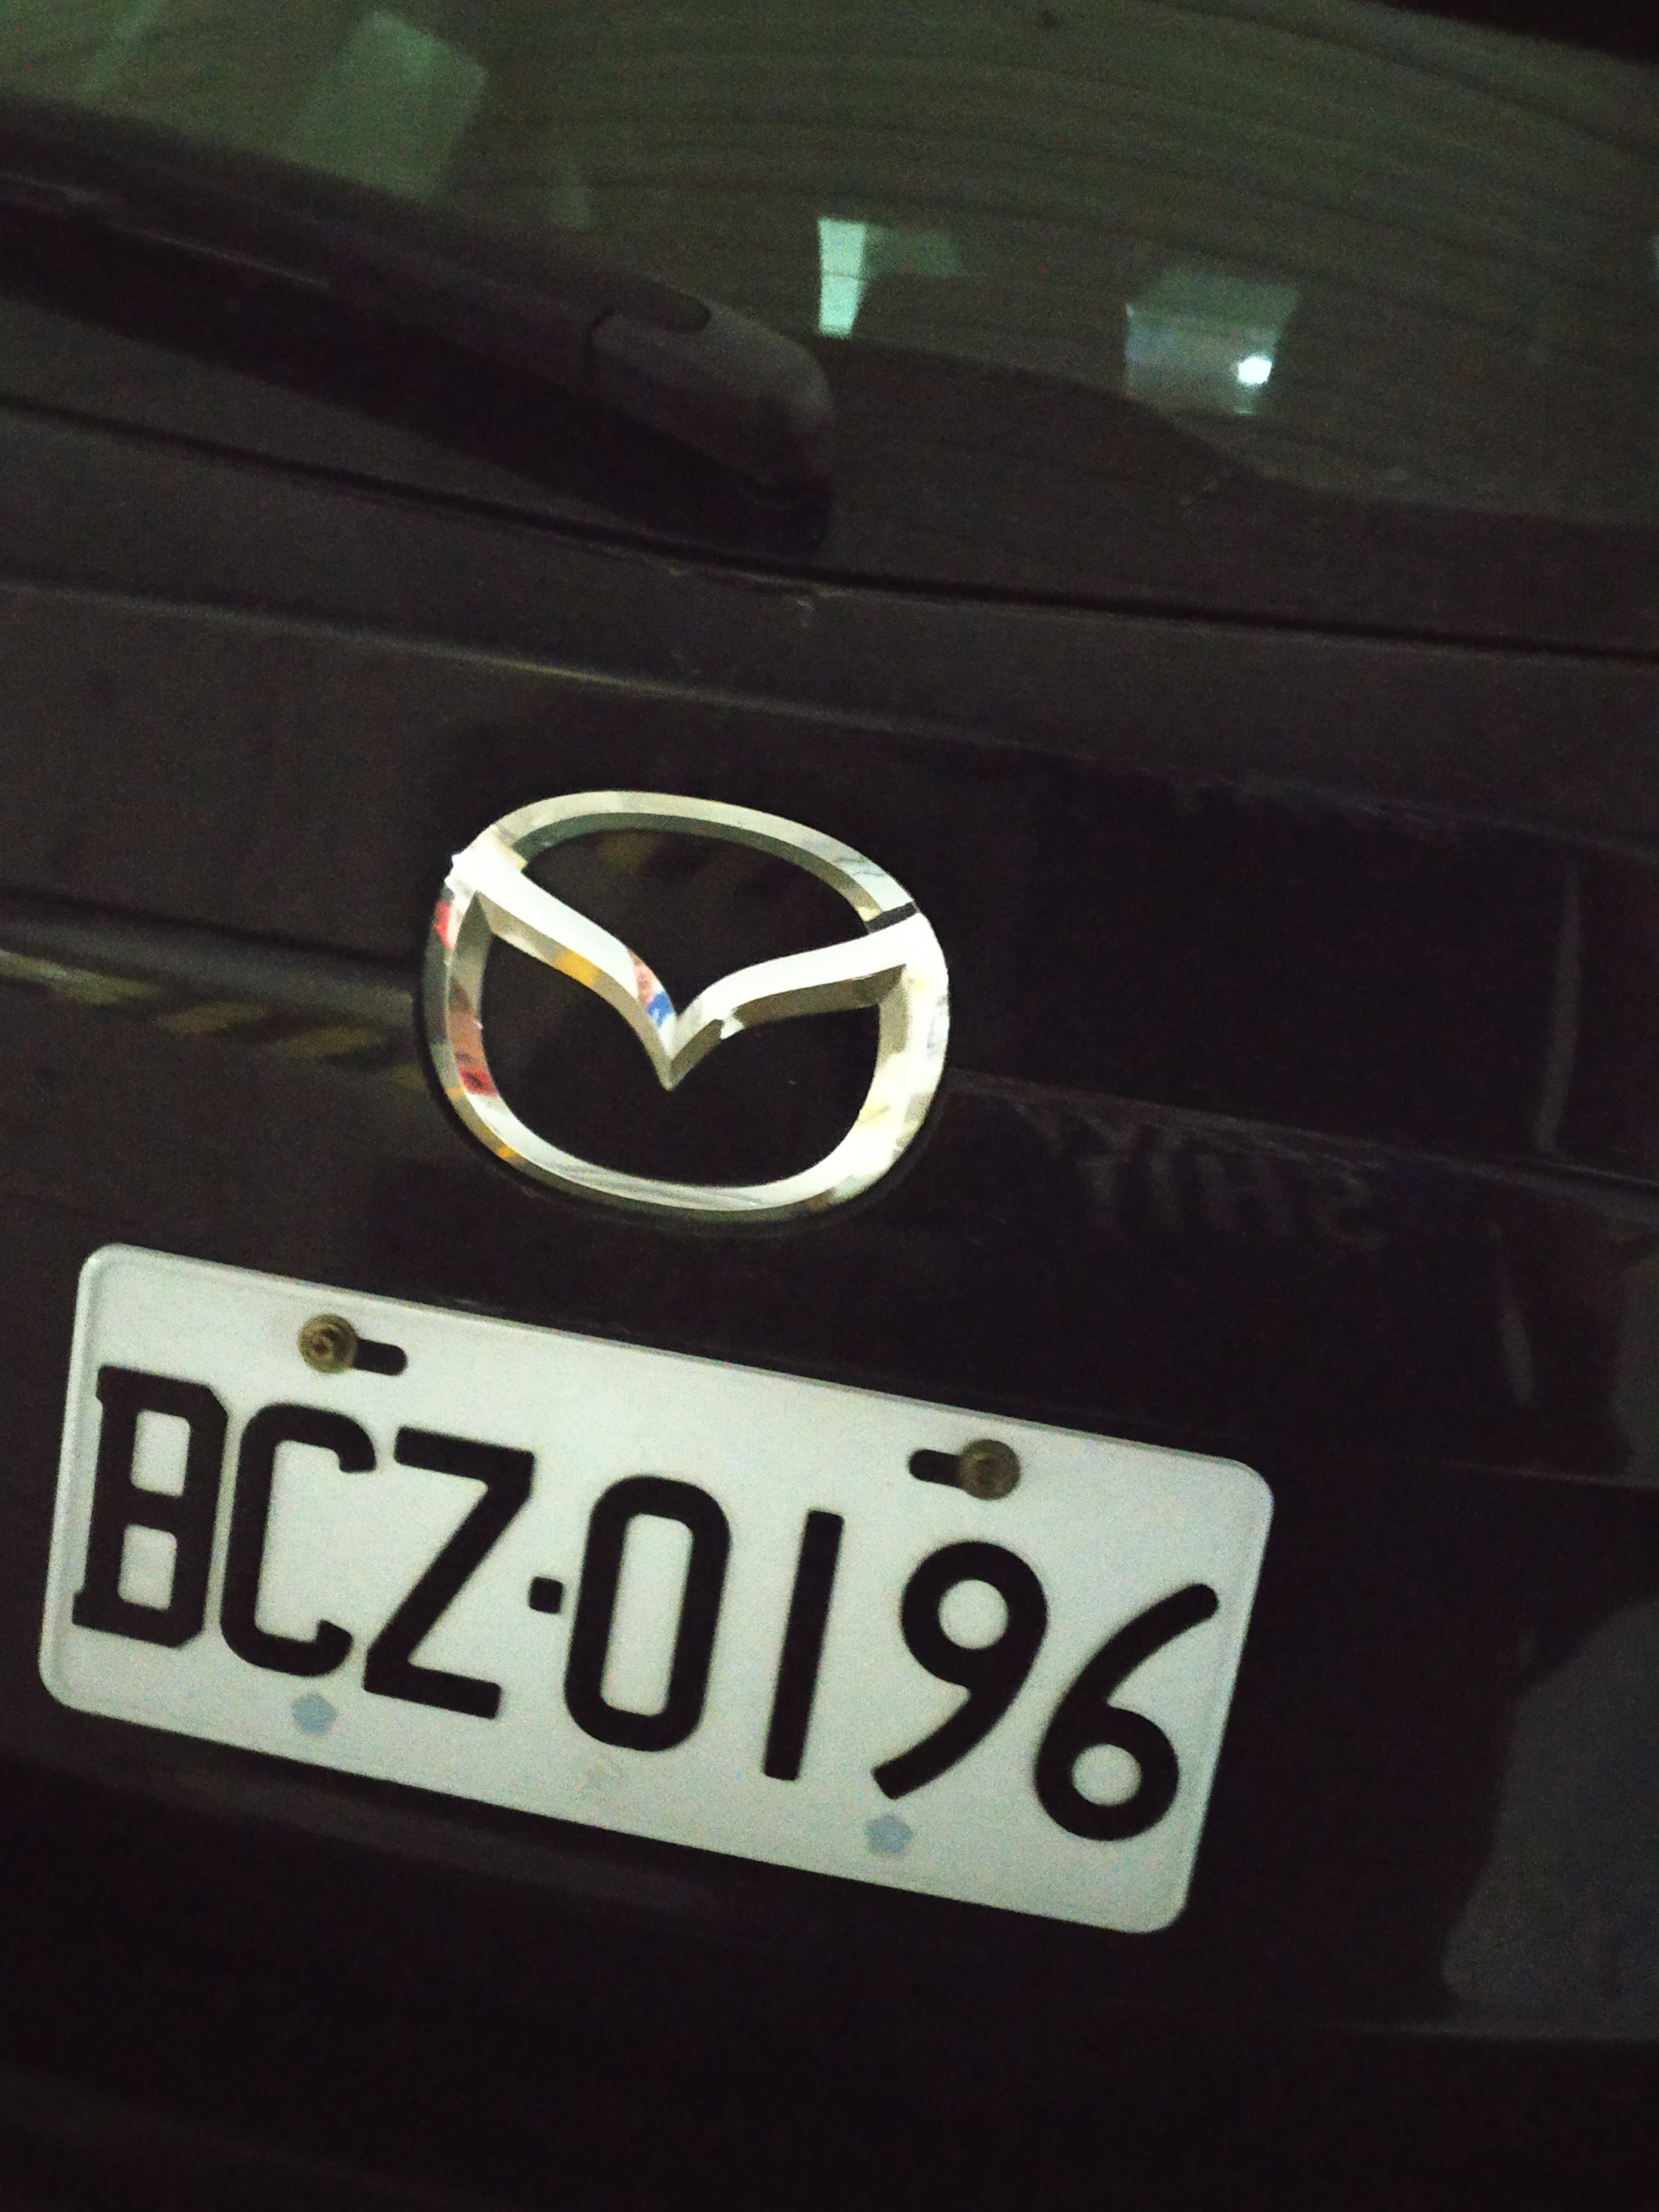car: (23, 103, 1575, 2109)
car_card: (61, 1266, 1213, 1944)
